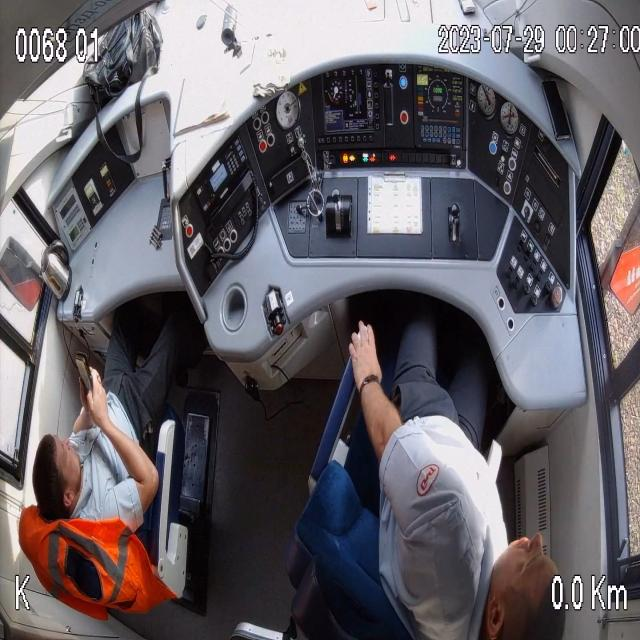smartphone: (72, 348, 109, 432)
